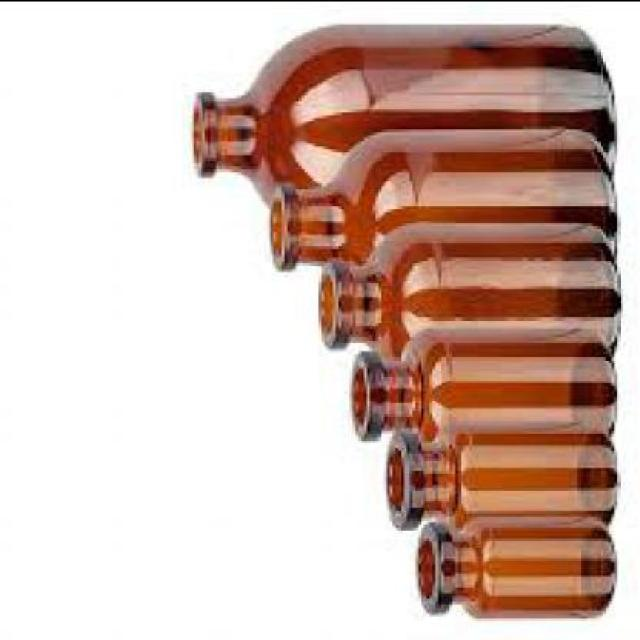glass: (191, 29, 612, 211), (267, 132, 618, 274), (315, 224, 617, 358), (351, 334, 618, 444), (385, 422, 612, 529), (418, 522, 612, 618)
